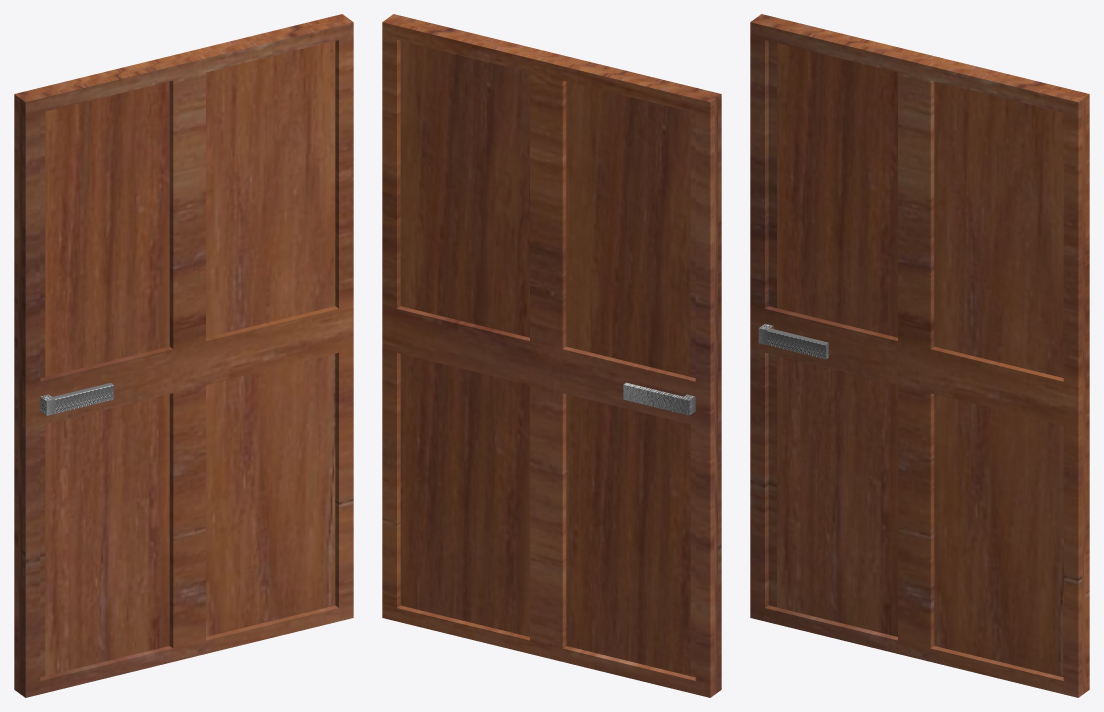
The model's file is дверь.fbx.
The picture shows the model from 3 angles, left to right: view 1: azimuth 30°, elevation 25°; view 2: azimuth 150°, elevation 25°; view 3: azimuth 330°, elevation 25°; orthographic projection.
Parts seen in each view (by area): view 1: Cube; view 2: Cube; view 3: Cube.
Part boxes in pixels (x1=…): Cube: x1=14, y1=14, x2=353, y2=697; Cube: x1=382, y1=14, x2=721, y2=697; Cube: x1=750, y1=14, x2=1089, y2=697.
Size of the model in its own units: 350 by 608 by 43.43.
